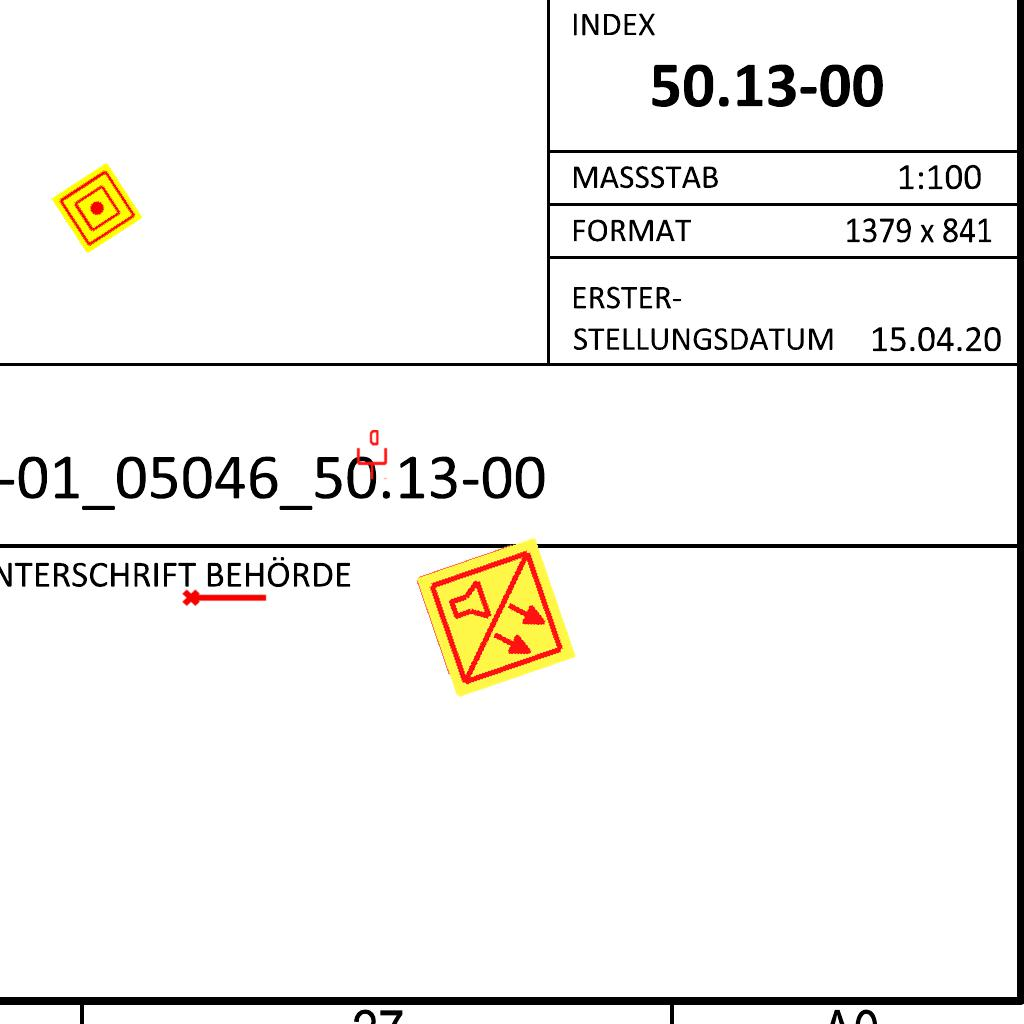ASR_Ansaugoeffnung: (181, 585, 269, 608)
Datenanschluss_einfach: (355, 430, 389, 480)
NAM-Nichtautomatischer_Melder: (51, 162, 143, 254)
OKW_Multisensormelder_(Kombination_optischer_Rauch-Kahlenmonoxid_Waerme-Melder): (412, 534, 580, 702)
